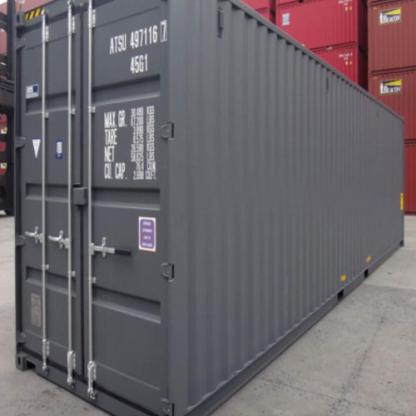Damage: (13, 11, 84, 44), (274, 269, 298, 299)
